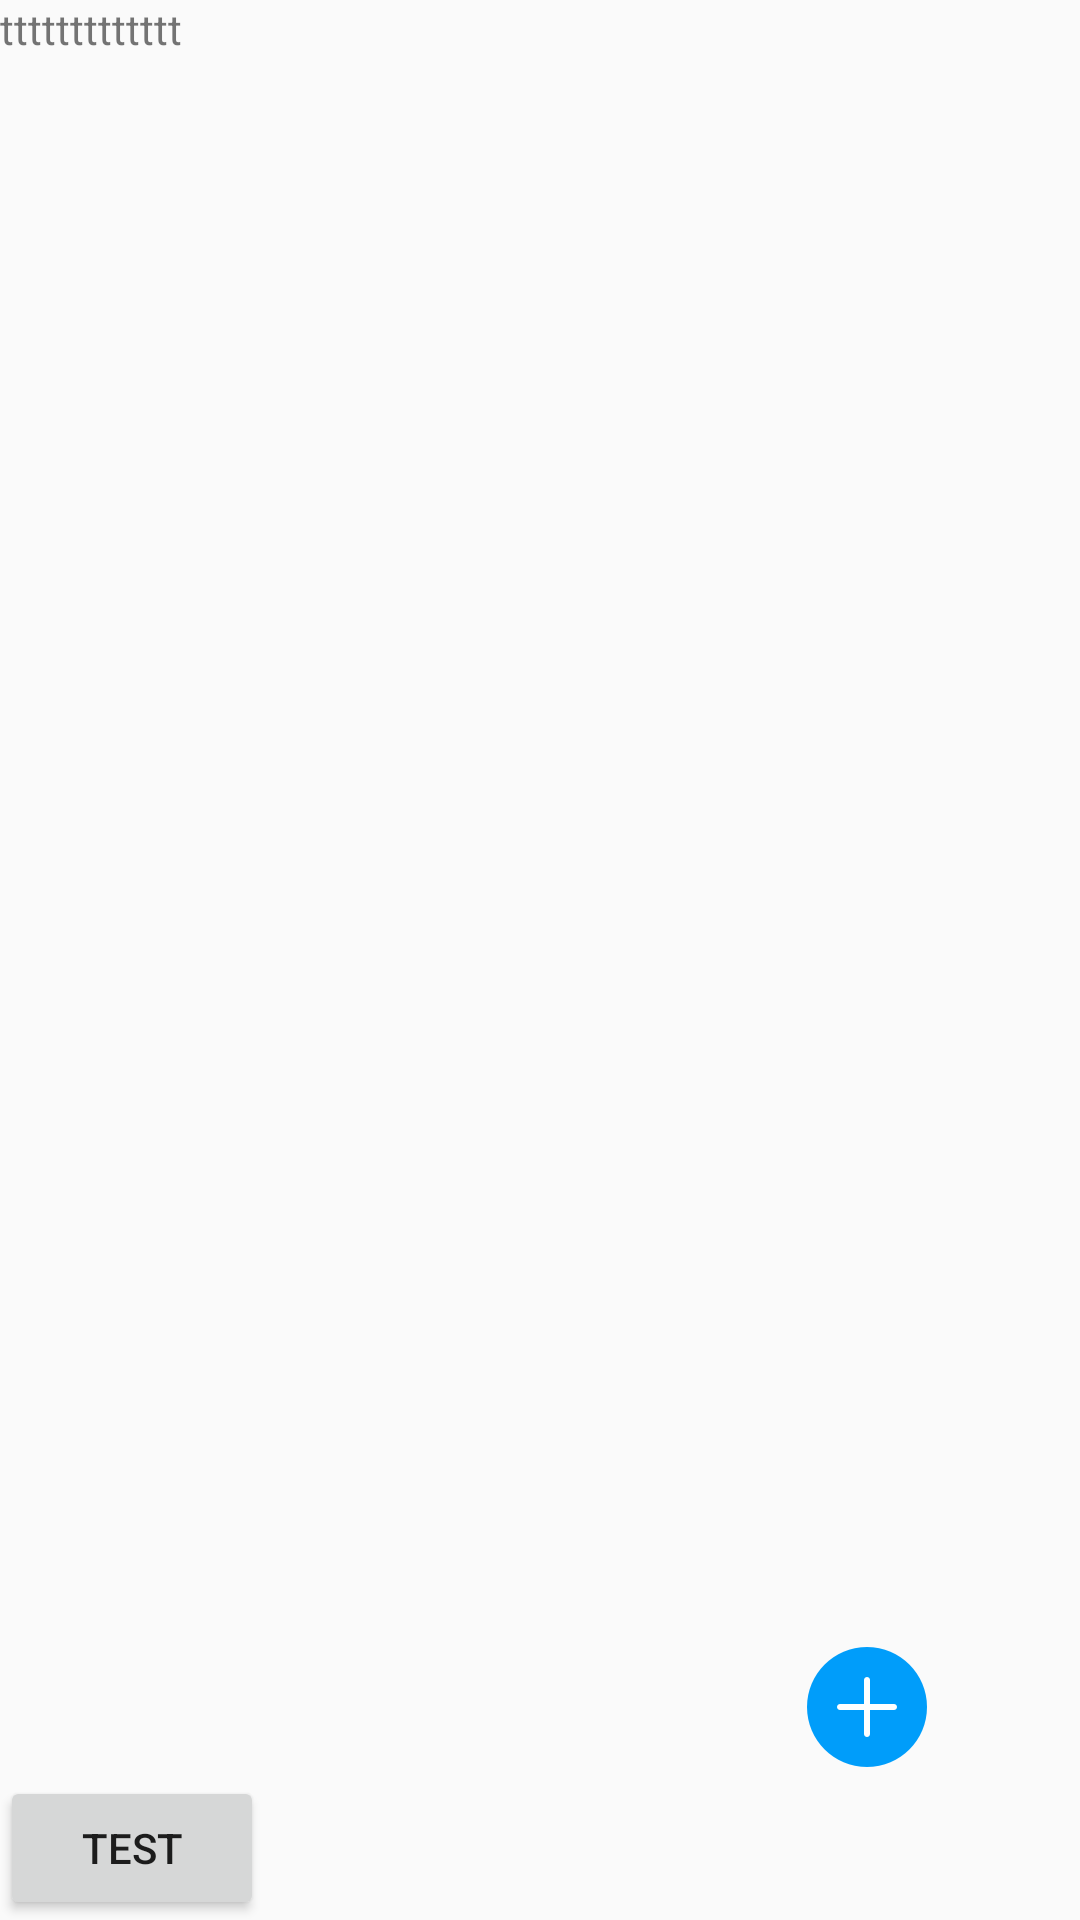

Icons on this 1080x1920 Android screen, each with the point to tap as (x=x, y=y):
bottom bar add: (x=867, y=1707)
